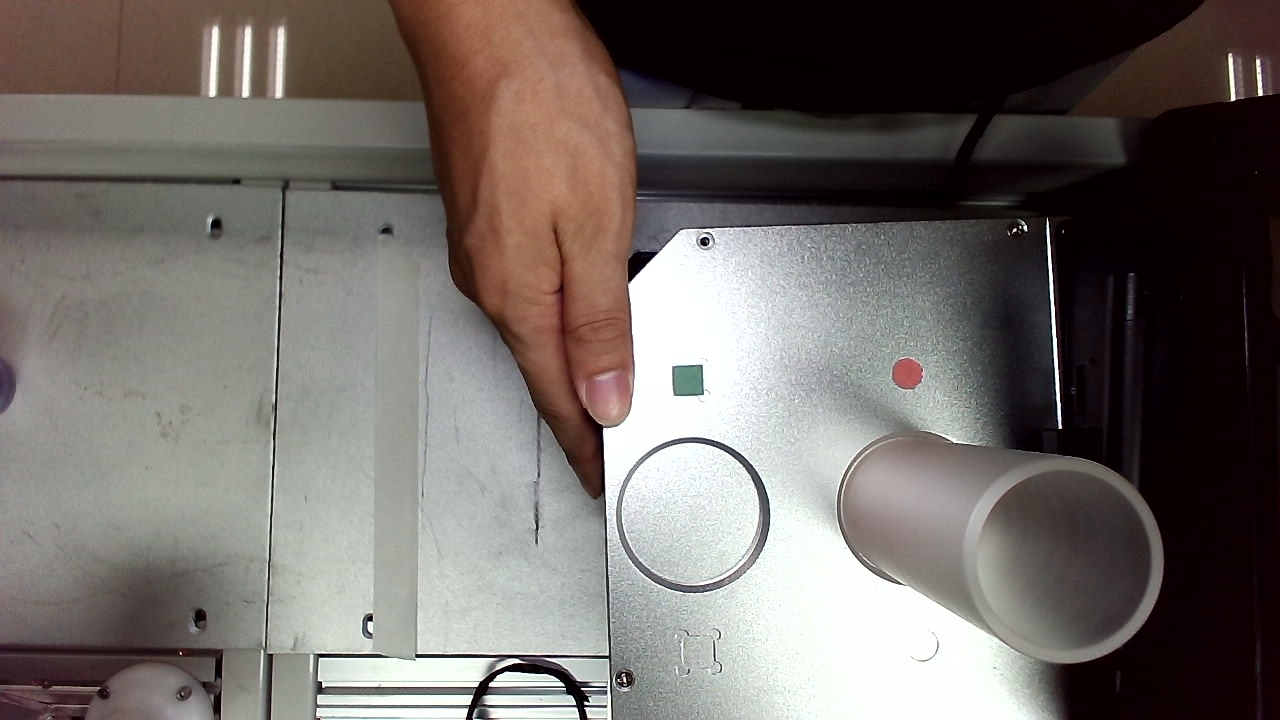bad: (767, 591, 814, 638), (254, 88, 302, 133), (282, 586, 327, 634), (745, 3, 786, 47), (258, 164, 301, 205), (705, 630, 746, 671), (679, 71, 720, 112), (812, 334, 852, 374), (285, 27, 325, 66), (397, 166, 436, 206), (837, 132, 875, 173), (540, 427, 576, 469), (840, 314, 879, 352), (358, 91, 397, 129), (806, 20, 842, 60), (393, 451, 430, 489), (409, 239, 451, 272), (845, 497, 884, 532), (820, 98, 856, 134), (778, 508, 812, 541), (841, 200, 877, 228)
defact: (705, 106, 740, 144)
pass: (841, 412, 887, 462), (640, 124, 680, 173), (465, 498, 508, 542), (628, 577, 669, 623), (369, 476, 409, 520), (330, 510, 372, 550), (573, 295, 612, 337), (744, 630, 782, 672), (587, 258, 625, 299), (449, 607, 484, 651), (540, 302, 578, 340), (532, 12, 570, 50), (761, 218, 799, 255), (686, 597, 722, 635), (803, 44, 837, 84), (670, 635, 706, 672), (556, 35, 590, 73), (529, 50, 560, 86)
toolong: (733, 481, 779, 556), (287, 139, 331, 201), (655, 548, 695, 616)
unpass: (267, 428, 313, 473), (832, 226, 880, 268), (471, 564, 509, 614), (839, 1, 875, 53), (370, 316, 410, 358), (294, 71, 337, 110), (557, 537, 596, 577), (774, 26, 810, 69), (808, 520, 845, 560), (502, 30, 539, 70), (401, 284, 439, 322), (621, 282, 658, 321), (846, 527, 883, 566), (323, 34, 360, 72), (272, 202, 311, 238), (513, 338, 548, 378), (565, 4, 600, 43), (832, 569, 866, 605), (839, 166, 874, 200), (766, 549, 800, 583)
